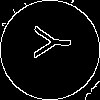Y: (25, 25, 71, 59)
